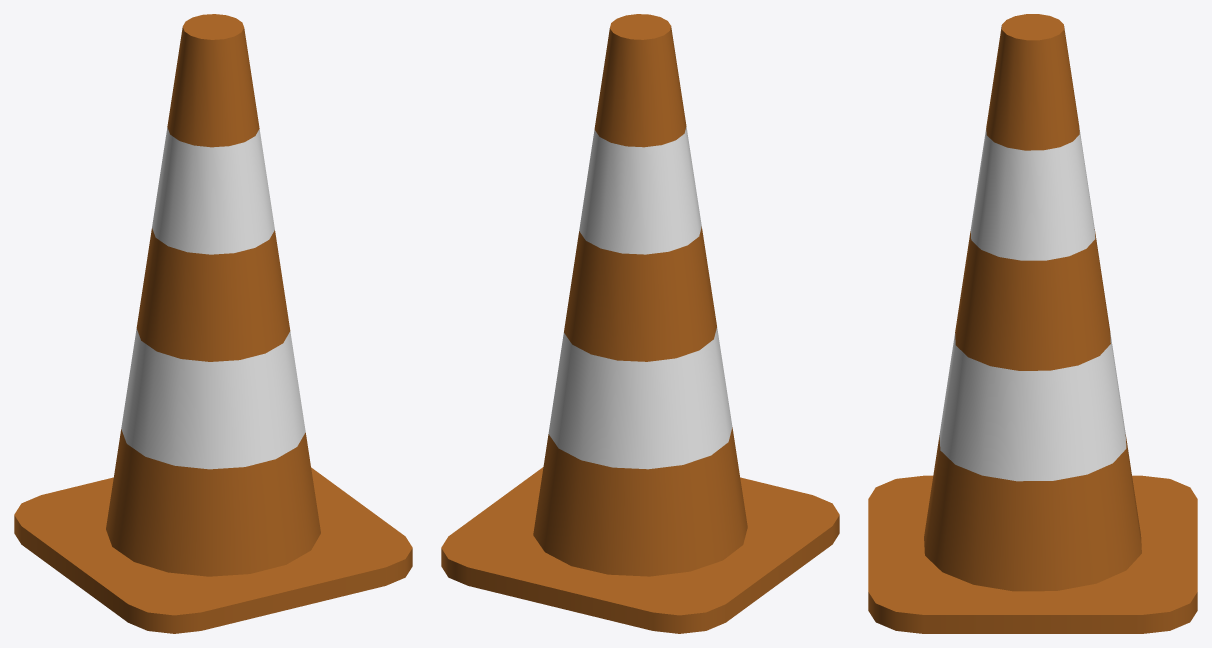
3 renders of one model, left to right at view 1: azimuth 30°, elevation 25°; view 2: azimuth 150°, elevation 25°; view 3: azimuth 270°, elevation 25°, orthographic. The views are drawn at different scales.
Visible parts, largest first — view 1: cone; view 2: cone; view 3: cone.
Part boxes in pixels (x1,y1,x2,y2): cone: (14,14,412,633); cone: (441,14,839,633); cone: (868,14,1197,633).
Bounding box in the file's own units: 1 × 1.8 × 1.
1 material, 1 textured.
